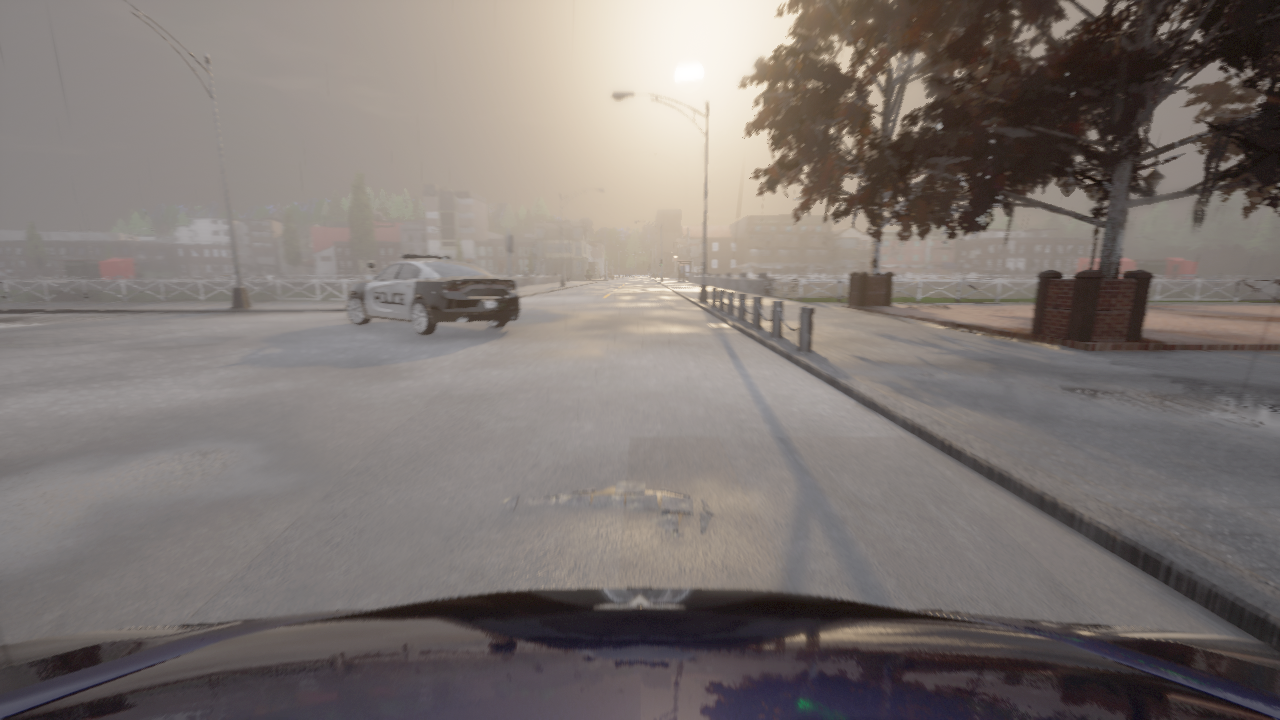cyclist: (0, 588, 1279, 719), (347, 252, 519, 335)
pedestrian: (467, 260, 470, 263)
